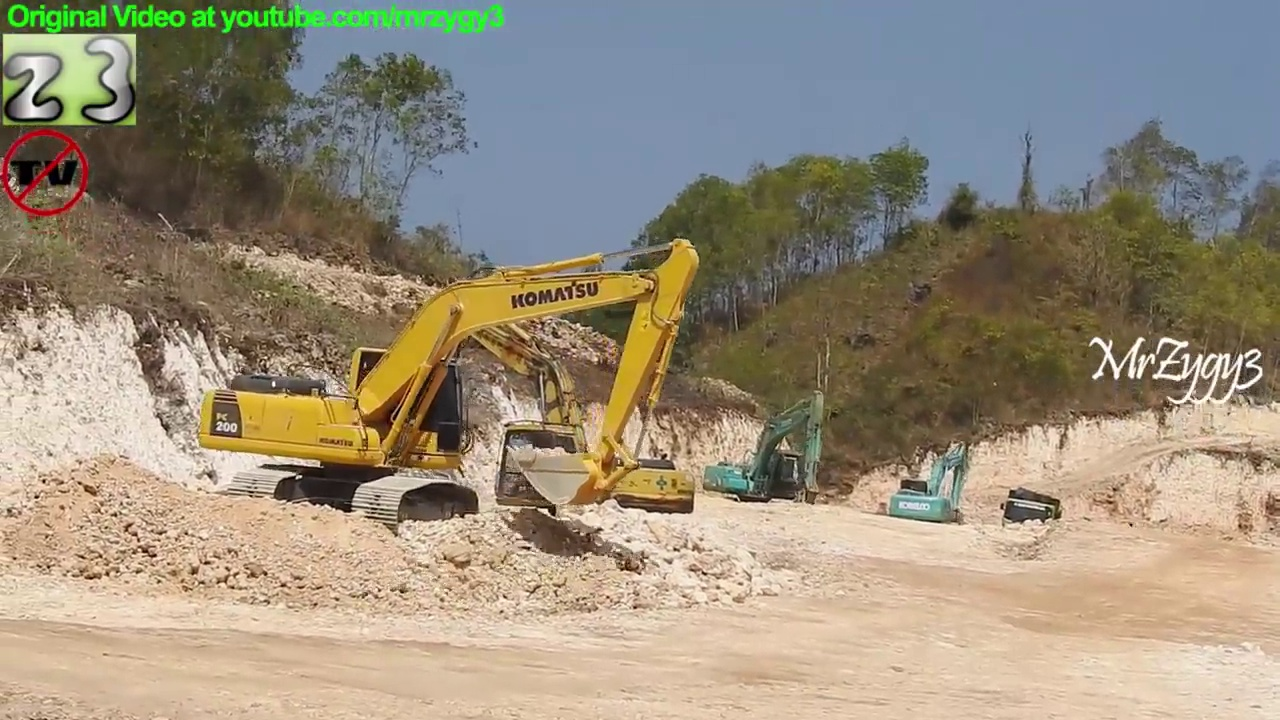excavator: (192, 234, 705, 540), (402, 282, 700, 536), (699, 386, 831, 519), (882, 436, 977, 538)
truck: (996, 482, 1067, 552)
